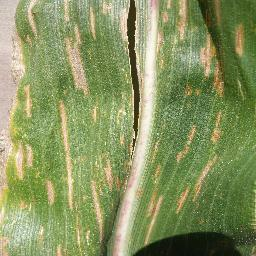Gray_Leaf_Spot: (0, 0, 145, 134), (0, 135, 134, 256), (192, 1, 232, 101), (147, 0, 190, 74), (141, 167, 164, 251), (176, 123, 199, 167), (174, 183, 205, 215), (209, 110, 228, 148), (231, 20, 249, 60), (199, 154, 219, 183), (149, 133, 161, 167), (248, 207, 256, 256), (184, 84, 192, 100), (209, 247, 220, 256)
